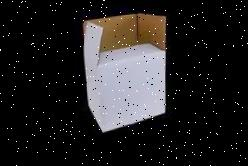cube: (81, 45, 166, 141)
